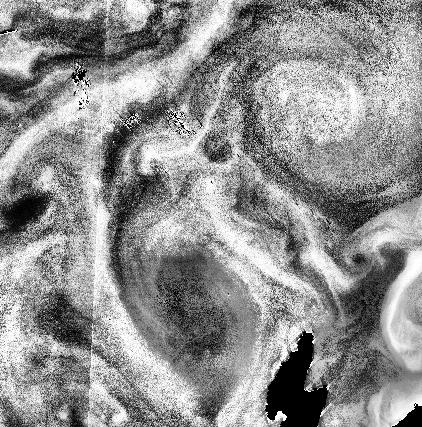AE: (212, 5, 415, 209)
CE: (92, 230, 281, 424)
